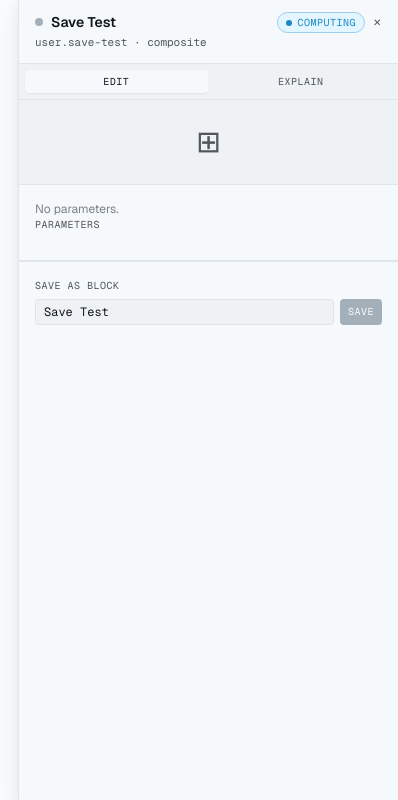
Test: InspectorPanel › save-as-block button text changes to 'saved' after click then reverts
The image size is (398, 800).
Click the button with test id "save-as-block-btn" at (361, 312), box x1=340 y1=298 x2=382 y2=324
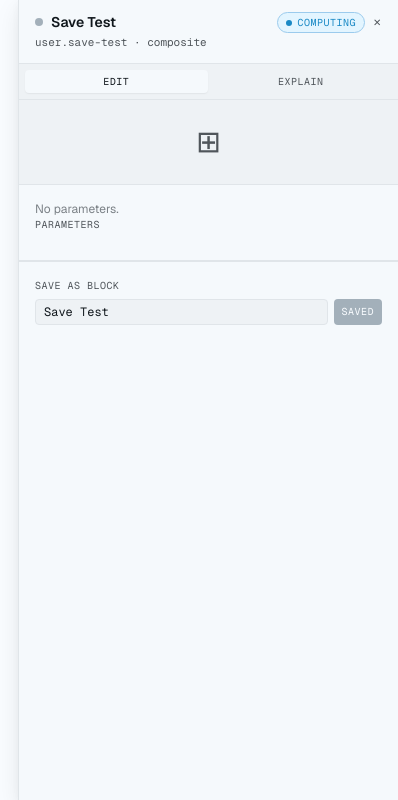
Expected: the button with test id "save-as-block-btn" reads "saved", x1=334 y1=298 x2=382 y2=324
